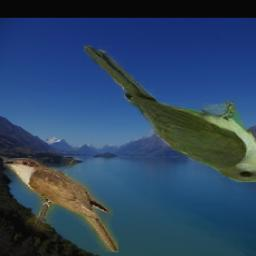Cuckoo: (84, 44, 256, 183), (2, 159, 117, 253)
